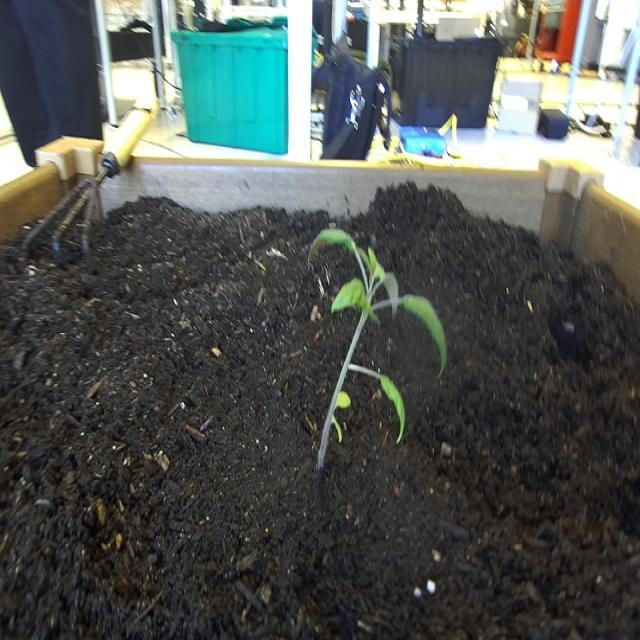Healthy: (300, 215, 452, 482)
